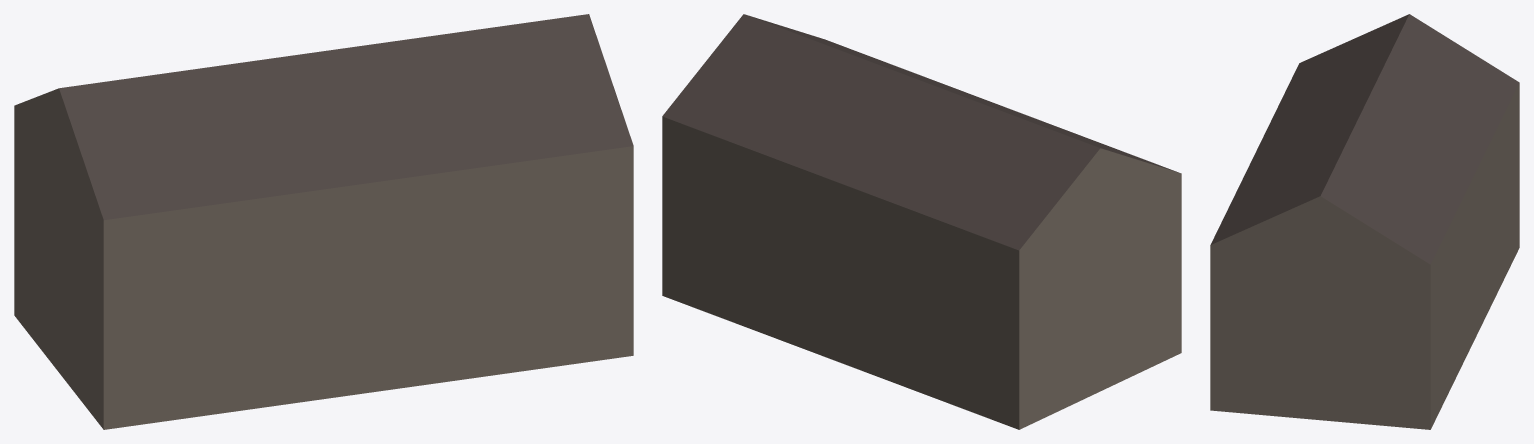
3 views of the same model, side by side, from view 1: azimuth 30°, elevation 25°; view 2: azimuth 150°, elevation 25°; view 3: azimuth 270°, elevation 25° (orthographic). The views are drawn at different scales.
Visible parts, largest first — view 1: HP-w859082552; view 2: HP-w859082552; view 3: HP-w859082552.
Boxes of the visible parts, left/top/right/bottom form: HP-w859082552: left=14, top=14, right=633, bottom=429; HP-w859082552: left=662, top=14, right=1181, bottom=429; HP-w859082552: left=1210, top=14, right=1519, bottom=429.
Bounding box in the file's own units: 15.69 × 8.14 × 10.18.
